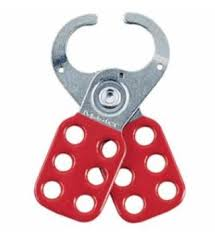hasp: (35, 13, 186, 227)
